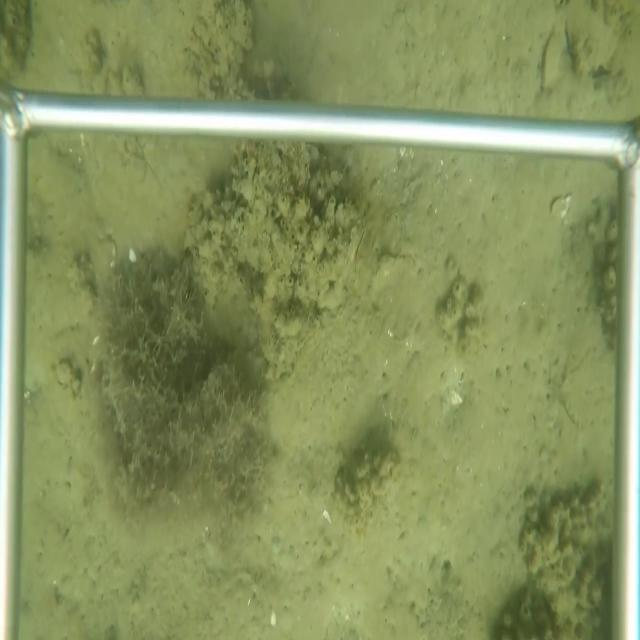Oyster-Closed: (534, 23, 569, 96), (346, 211, 371, 275)
